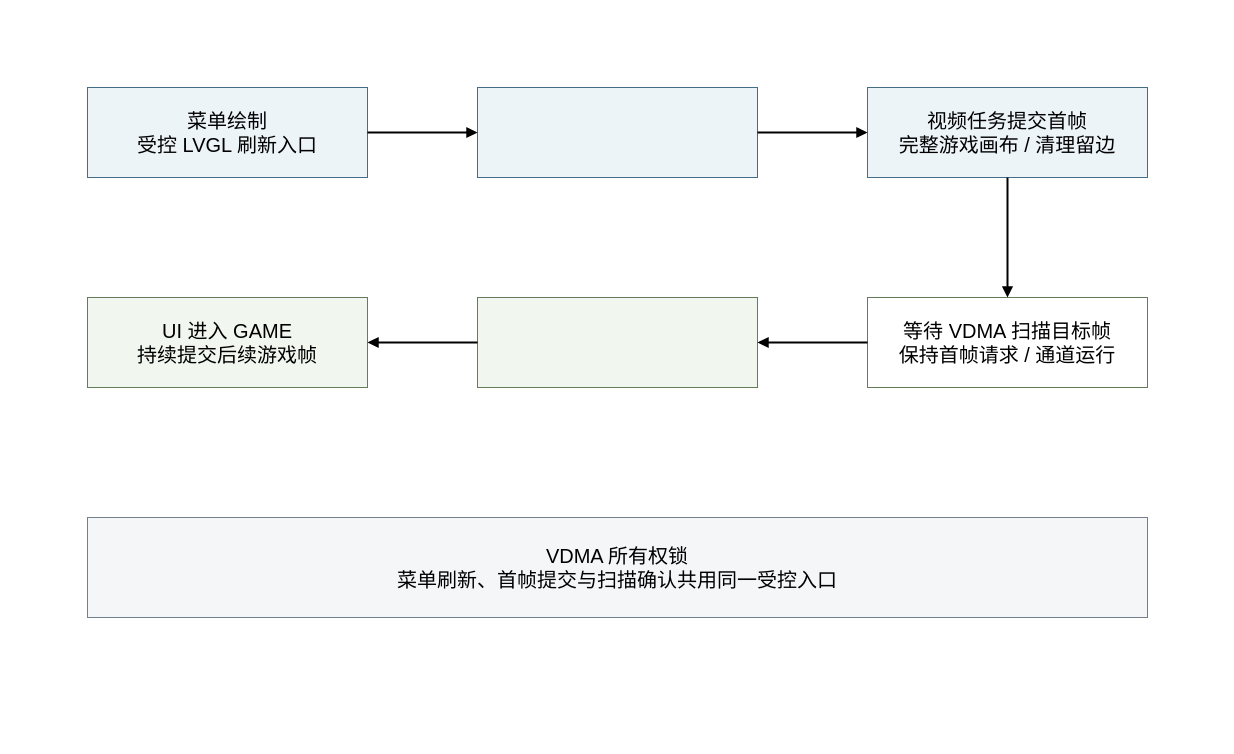
This 1234x754 diagram has some shape labels left out. Here are the shapes that lost their labels. From the top down, the centre of each, then its label:
the point at 617,132: ROM 加载完成 保留最后一张加载画面
the point at 617,342: 记录扫描确认 绑定当前 ROM generation
